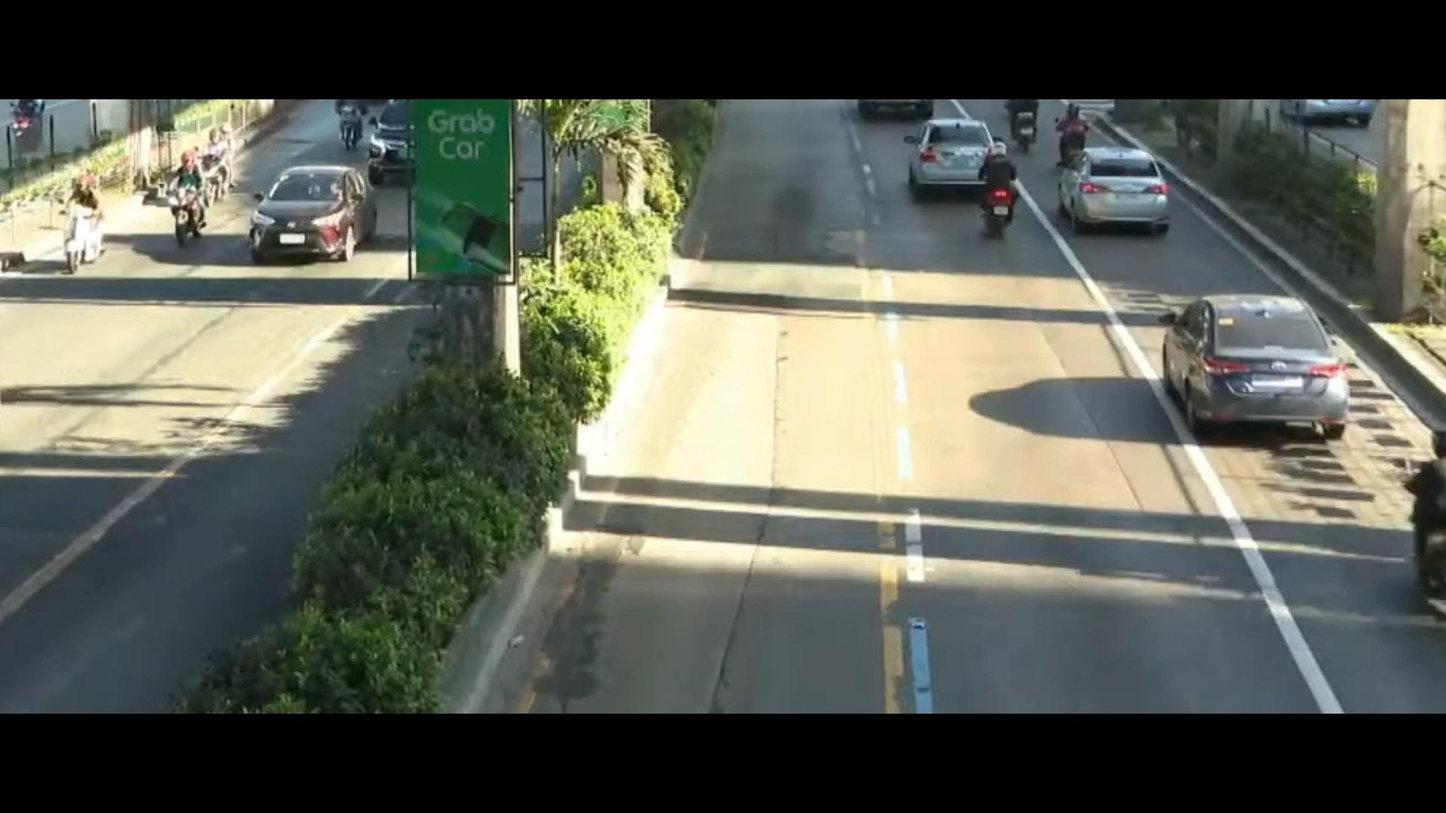Motorcycle: (1390, 414, 1446, 646), (43, 164, 125, 282), (146, 145, 223, 235), (968, 137, 1033, 221), (325, 98, 381, 151), (1052, 106, 1094, 169), (207, 126, 245, 185), (1008, 100, 1049, 146)
SUV: (369, 100, 415, 175)
Sedan: (1158, 285, 1393, 467), (253, 160, 384, 260), (1055, 147, 1198, 232), (890, 110, 1010, 199)
